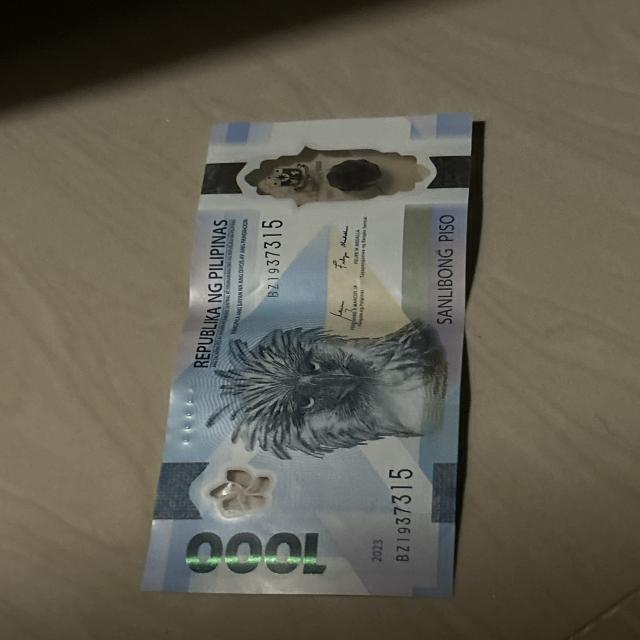clear_window: (212, 146, 460, 207)
eagle: (217, 334, 437, 449)
sampaguita: (196, 474, 285, 527)
value: (170, 526, 329, 578)
